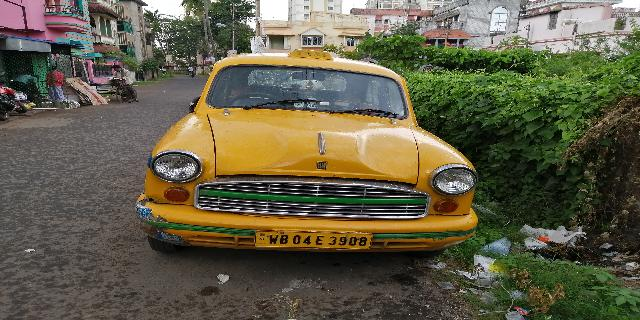Car: (136, 55, 480, 259)
